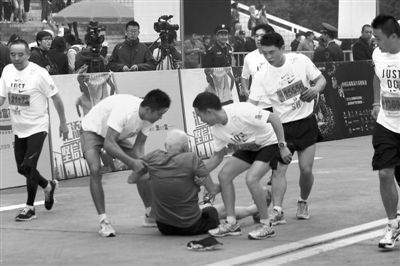10+: (1, 15, 394, 245)
down: (128, 127, 282, 235)
